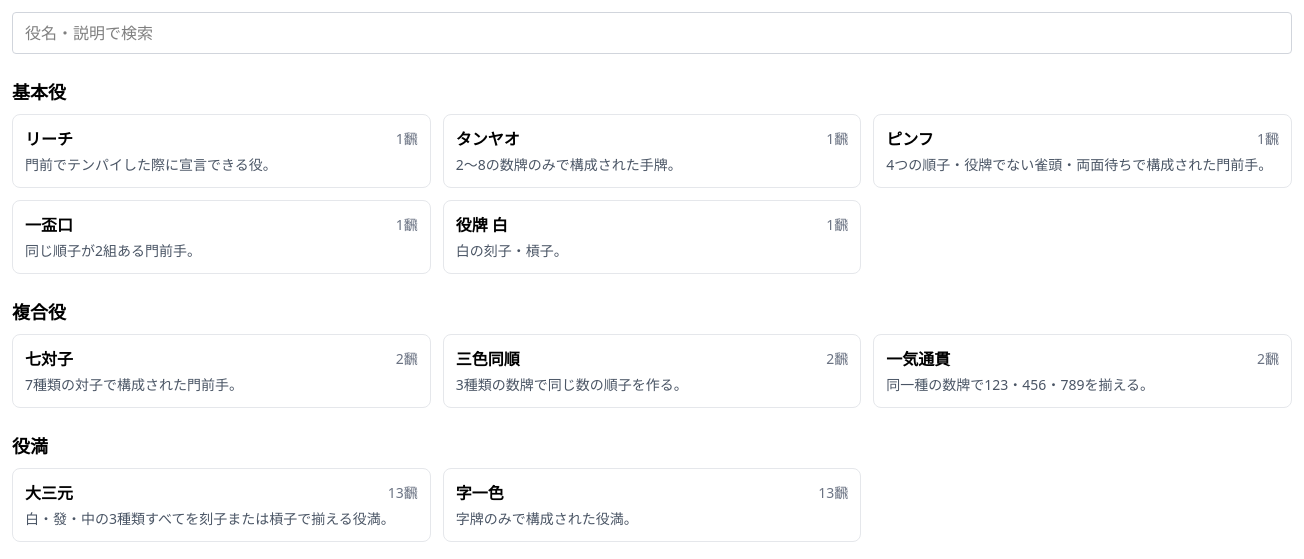
it: YakuList 表示・検索 › 該当なしの検索で空メッセージを表示する（要件2.5）
The width and height of the screenshot is (1304, 559).
Type "zzzz存在しない役zzzz" into the search field named "役の検索" at [652, 33], box top-left (12, 12), bottom-right (1292, 54)
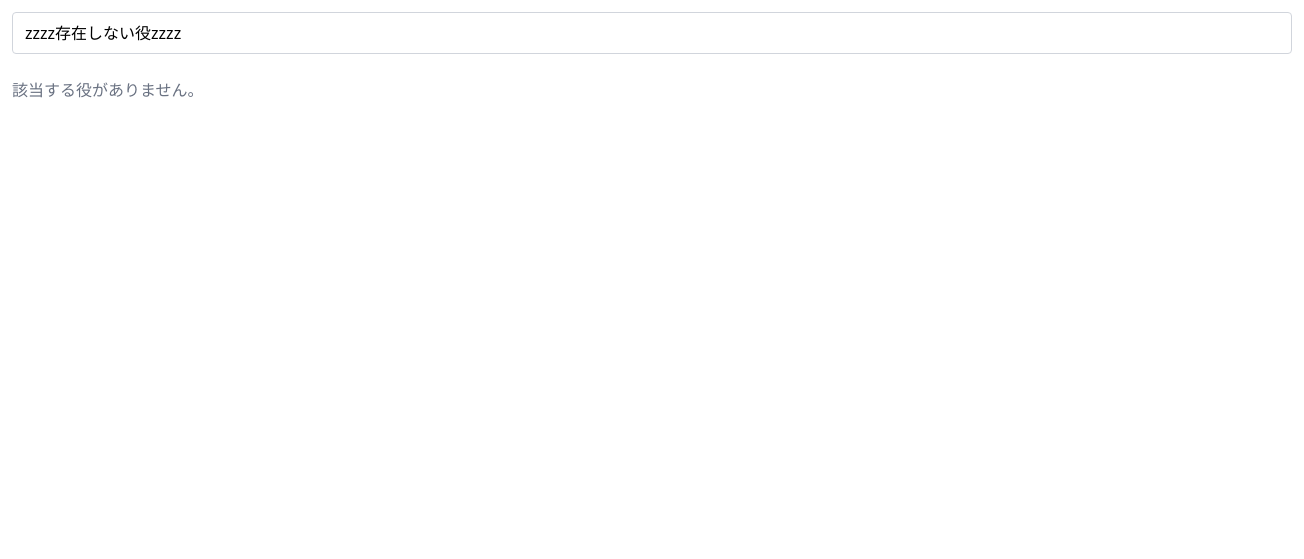
Check: the text "該当する役がありません。" is shown, box top-left (12, 79), bottom-right (204, 101)
